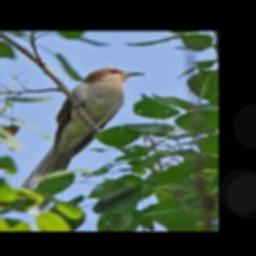Cuckoo: (21, 67, 145, 211)
